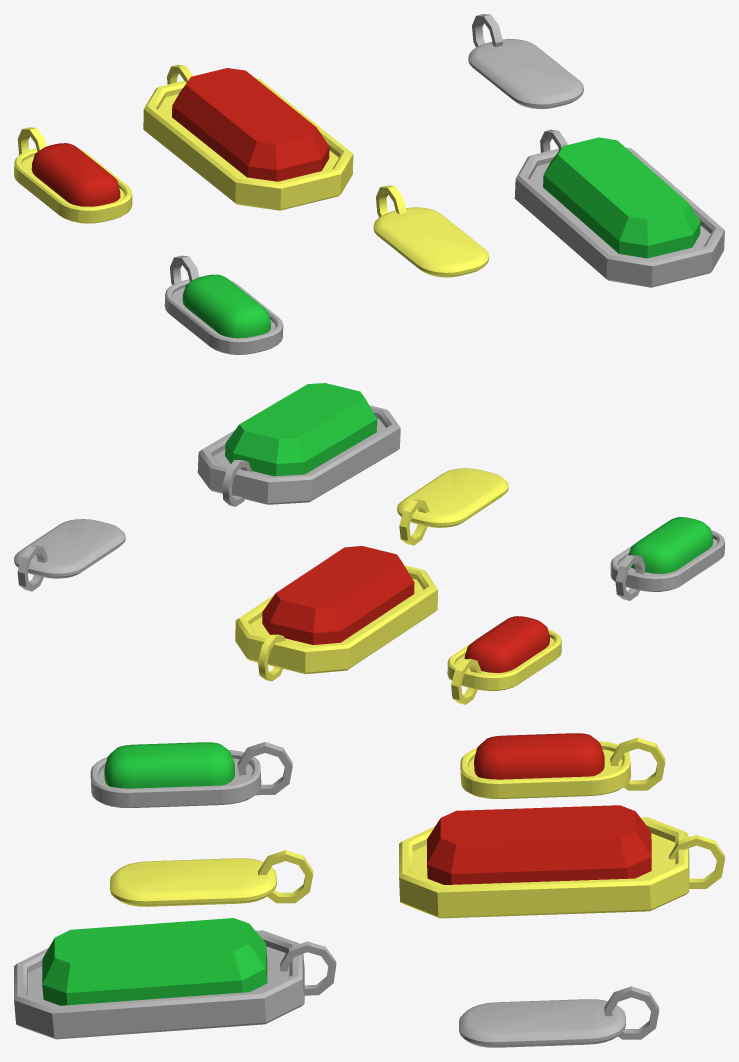
The model's file is Cullons_2.fbx.
3 renders of one model, top to bottom at view 1: azimuth 30°, elevation 25°; view 2: azimuth 150°, elevation 25°; view 3: azimuth 270°, elevation 25°, orthographic. The views are drawn at different scales.
Parts seen in each view (by area): view 1: SM_Cullon_2_1, SM_Cullon_12_1, SM_Cullon_7_1, SM_Cullon_8_1, SM_Cullon_6_1, SM_Cullon_9_1; view 2: SM_Cullon_12_1, SM_Cullon_2_1, SM_Cullon_8_1, SM_Cullon_7_1, SM_Cullon_9_1, SM_Cullon_6_1; view 3: SM_Cullon_2_1, SM_Cullon_12_1, SM_Cullon_8_1, SM_Cullon_7_1, SM_Cullon_9_1, SM_Cullon_6_1.
Part boxes in pixels (bbox=[...]): SM_Cullon_2_1: bbox=[514, 129, 724, 287]; SM_Cullon_12_1: bbox=[143, 65, 353, 210]; SM_Cullon_7_1: bbox=[164, 255, 283, 354]; SM_Cullon_8_1: bbox=[14, 127, 132, 223]; SM_Cullon_6_1: bbox=[468, 14, 583, 108]; SM_Cullon_9_1: bbox=[373, 185, 489, 277]; SM_Cullon_12_1: bbox=[235, 546, 437, 681]; SM_Cullon_2_1: bbox=[197, 383, 400, 506]; SM_Cullon_8_1: bbox=[447, 616, 561, 704]; SM_Cullon_7_1: bbox=[610, 517, 724, 600]; SM_Cullon_9_1: bbox=[397, 468, 508, 545]; SM_Cullon_6_1: bbox=[14, 519, 125, 591]; SM_Cullon_2_1: bbox=[14, 918, 336, 1039]; SM_Cullon_12_1: bbox=[399, 805, 724, 918]; SM_Cullon_8_1: bbox=[460, 733, 665, 798]; SM_Cullon_7_1: bbox=[90, 742, 292, 807]; SM_Cullon_9_1: bbox=[110, 850, 313, 906]; SM_Cullon_6_1: bbox=[459, 986, 659, 1047].
Bounding box in the file's own units: 13.98 × 1.72 × 14.08.
